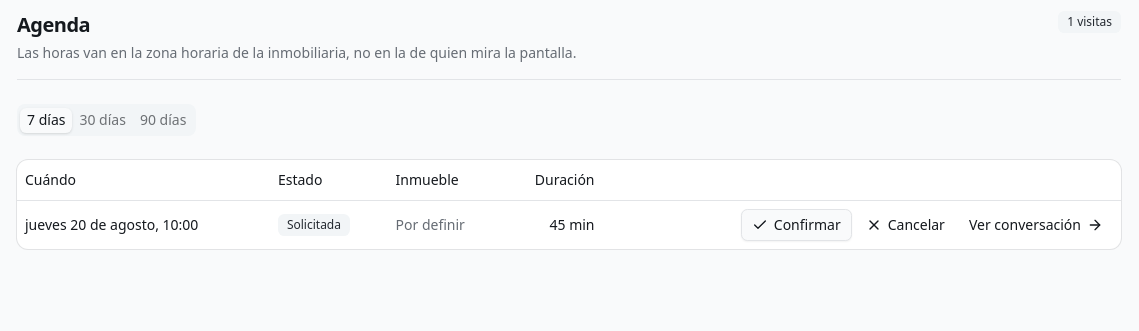
Agenda de visitas › un fallo del servidor se explica y la visita no cambia
The width and height of the screenshot is (1139, 331).
Click the button "Confirmar": (796, 224) x1=741 y1=208 x2=852 y2=240
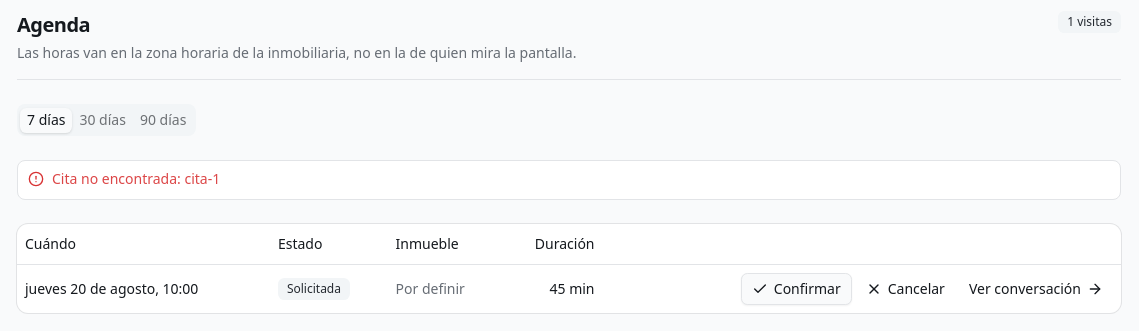
Expected: the text "Solicitada" is shown, x1=278 y1=278 x2=350 y2=300
Expected: the text "Cita no encontrada: cita-1" is shown, x1=52 y1=169 x2=220 y2=188
